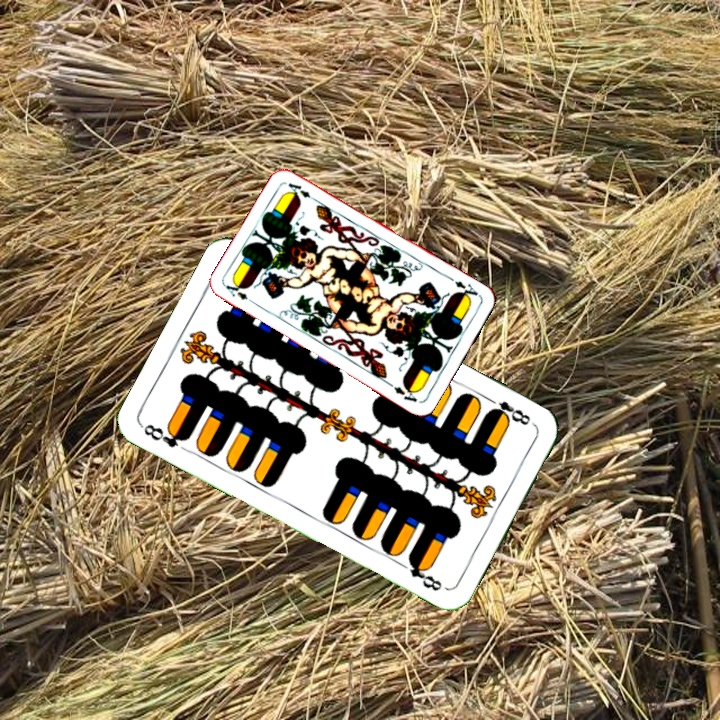E8: (483, 393, 533, 428), (138, 420, 192, 451)
EA: (221, 278, 259, 307), (450, 277, 483, 303)
